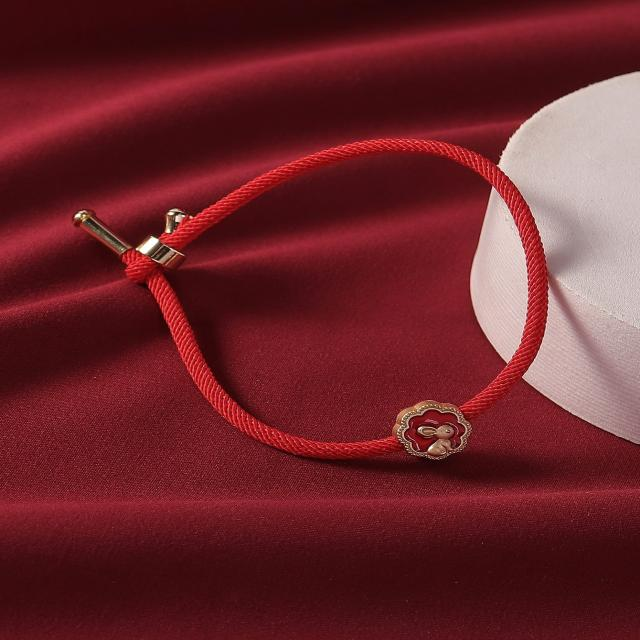bracelet: (40, 102, 640, 511)
